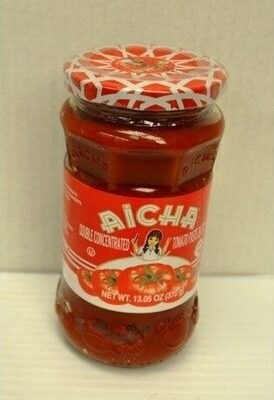Aicha Tomato Paste: (14, 20, 260, 380)
